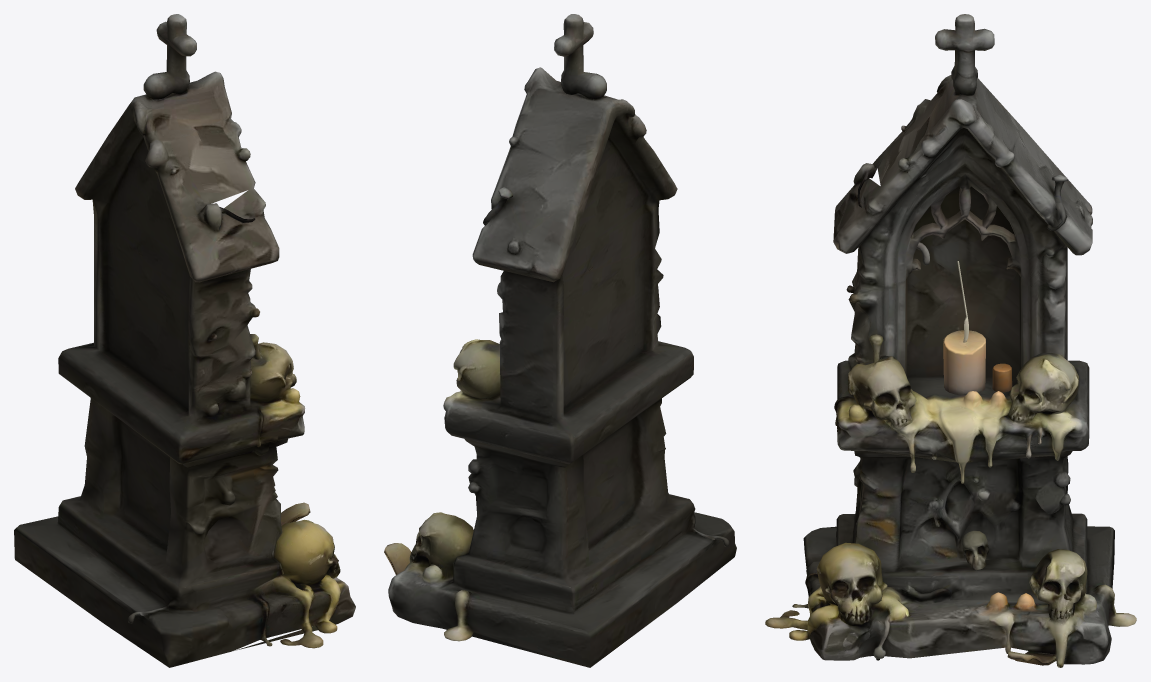
Rendered from shrine.glb.
3 views of the same model, side by side, from view 1: azimuth 30°, elevation 25°; view 2: azimuth 150°, elevation 25°; view 3: azimuth 270°, elevation 25° (orthographic). The views are drawn at different scales.
Parts seen in each view (by area): view 1: tripo_node_67985b4b-f188-4634-bbd7-b0cdf044c07c; view 2: tripo_node_67985b4b-f188-4634-bbd7-b0cdf044c07c; view 3: tripo_node_67985b4b-f188-4634-bbd7-b0cdf044c07c.
Part boxes in pixels (<box>): tripo_node_67985b4b-f188-4634-bbd7-b0cdf044c07c: <box>14,14,355,667</box>; tripo_node_67985b4b-f188-4634-bbd7-b0cdf044c07c: <box>384,14,736,667</box>; tripo_node_67985b4b-f188-4634-bbd7-b0cdf044c07c: <box>765,14,1136,667</box>.
Bounding box in the file's own units: 0.4722 × 0.9995 × 0.5669.
1 material, 1 textured.
